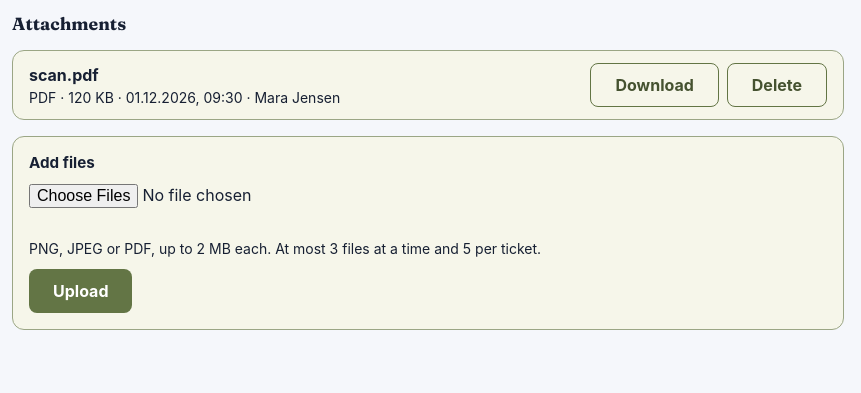
download › shows the server message when the download fails
This screenshot has width=861, height=393.
Click the button with aria-label "Download scan.pdf" at [655, 85], box [590,63,719,107]
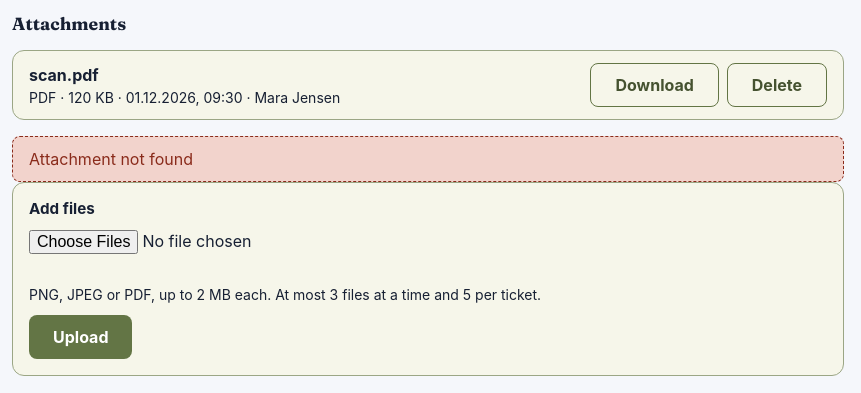
Expected: the message reads "Attachment not found", [29,149,193,169]
